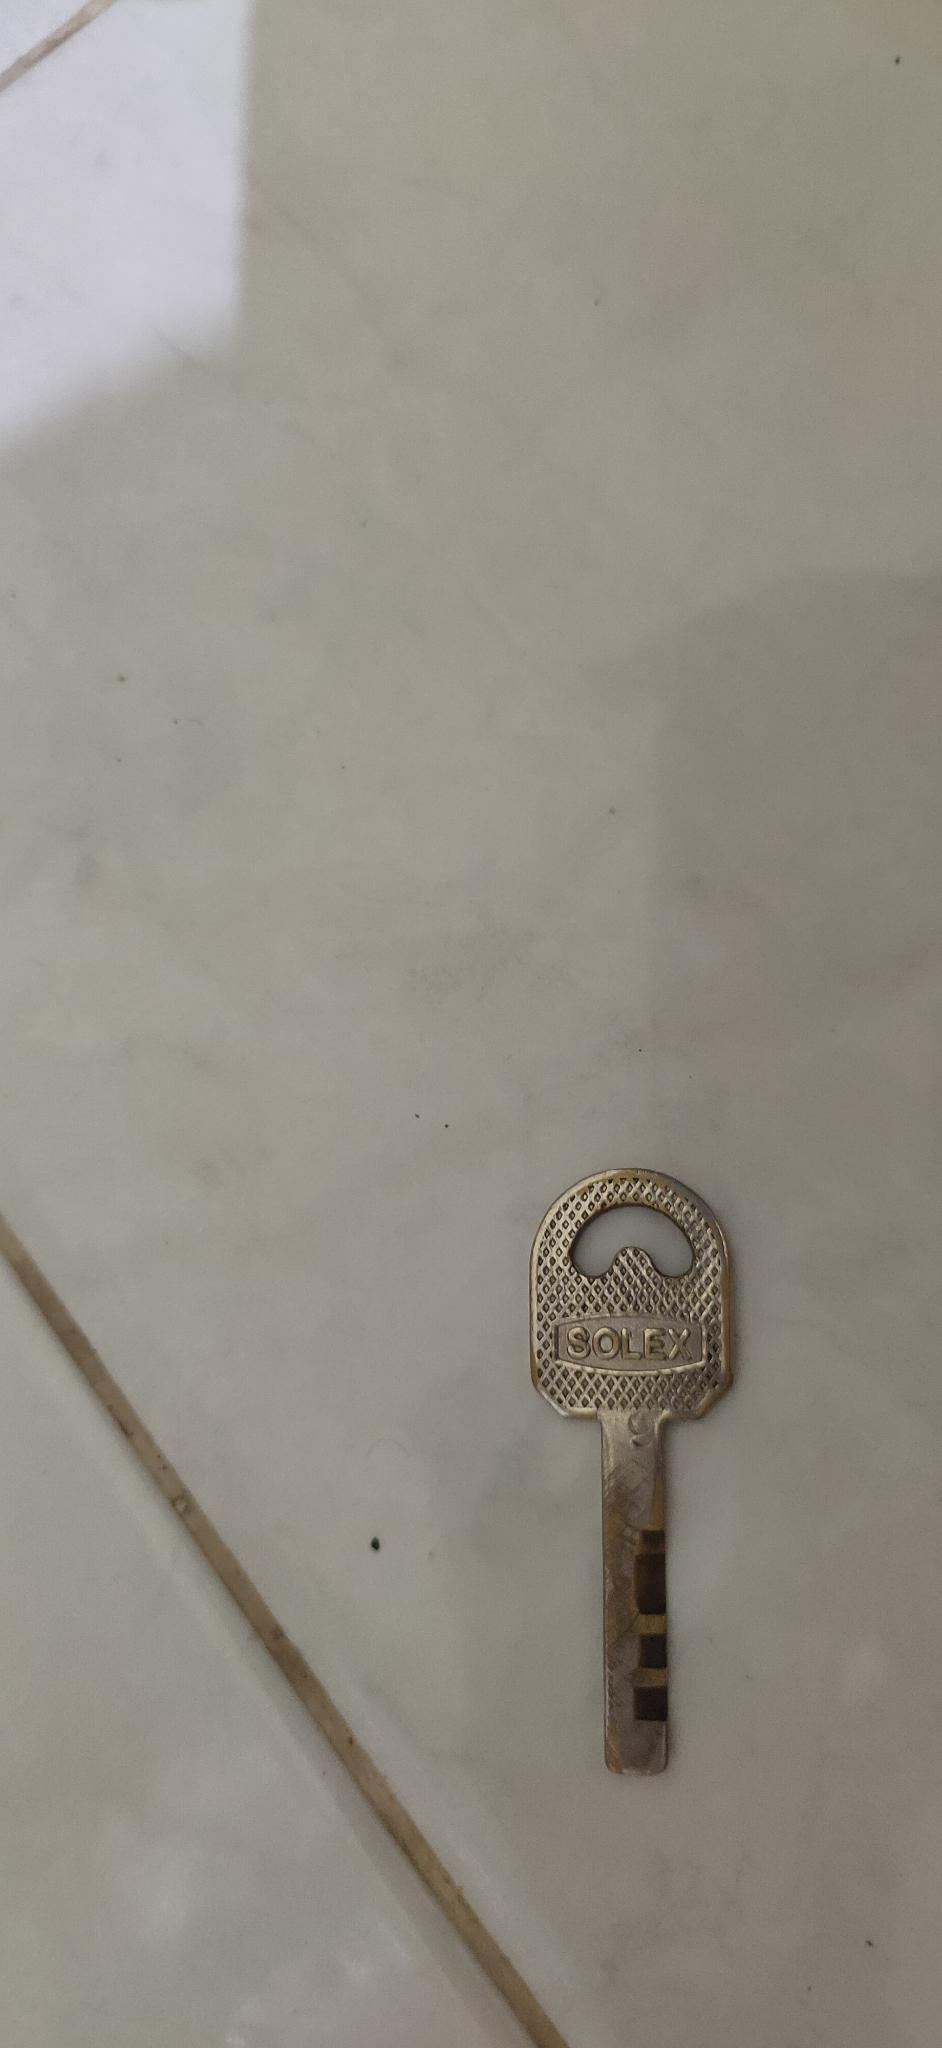keys: (506, 1157, 766, 1827)
